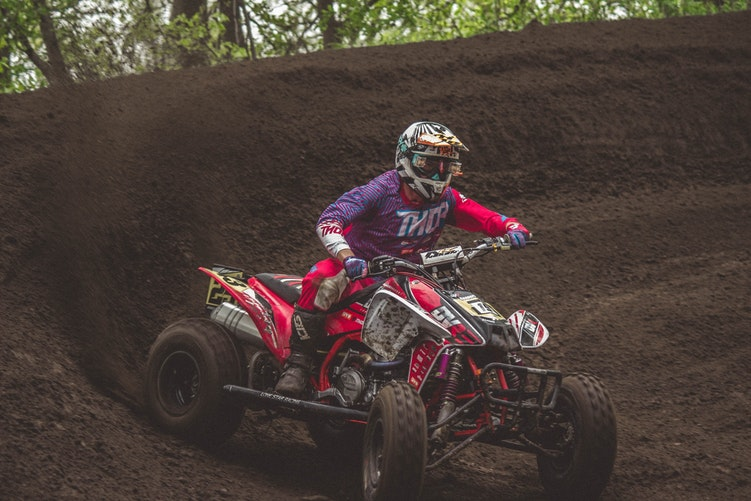helmet: (388, 112, 465, 192)
